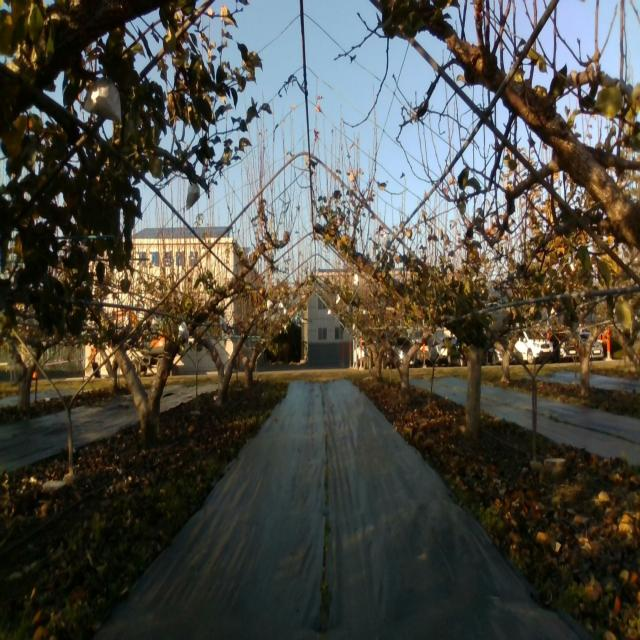pearbags: (82, 77, 121, 125), (186, 185, 200, 211), (178, 322, 189, 340)
